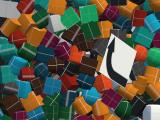Right: (99, 33, 137, 89)
